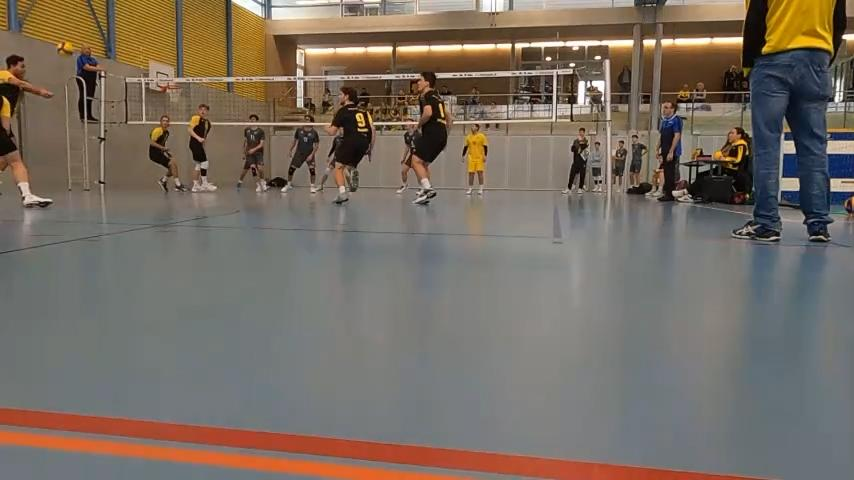Dig: (0, 51, 60, 212)
Player: (327, 86, 375, 203), (412, 72, 451, 204), (148, 115, 187, 191), (281, 115, 319, 192), (188, 104, 216, 192), (237, 125, 268, 192), (311, 131, 342, 192), (462, 124, 487, 194), (396, 122, 420, 193)
ball: (57, 40, 74, 56)
